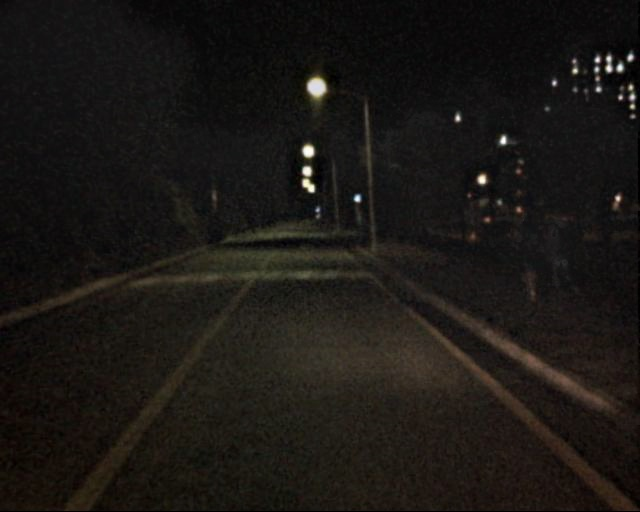person: (509, 211, 553, 308), (541, 210, 579, 302)
